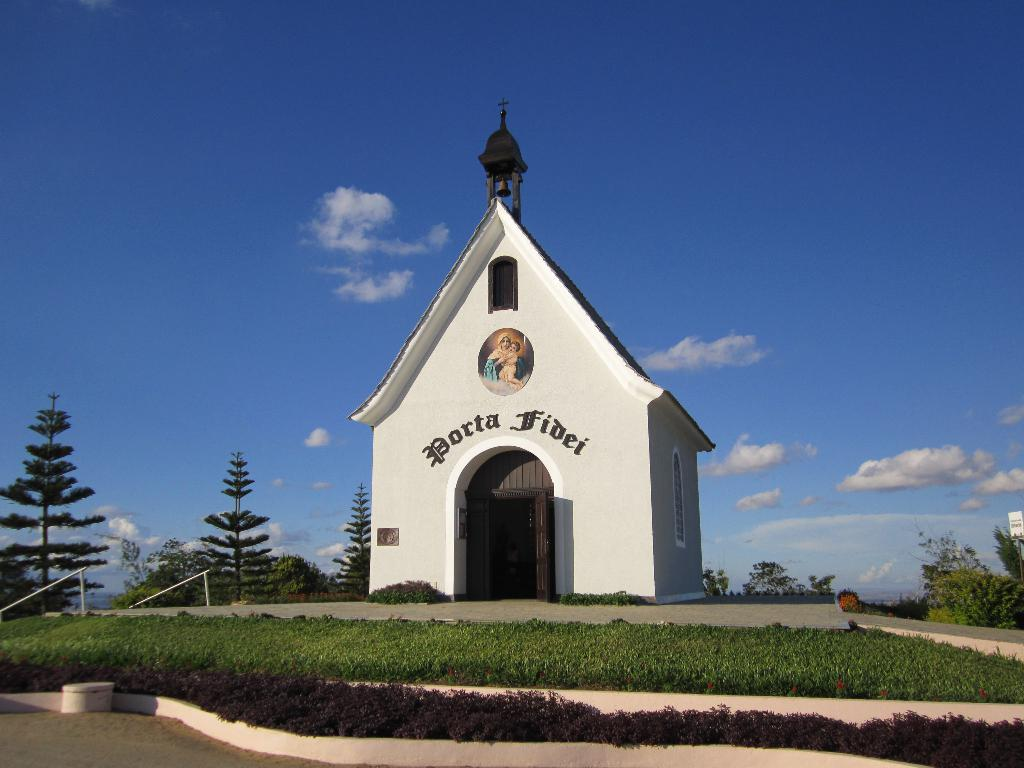Tree: (0, 386, 108, 620), (191, 452, 279, 606), (901, 496, 996, 611), (238, 546, 343, 602), (140, 531, 216, 607), (324, 479, 367, 597), (744, 558, 837, 593), (120, 531, 158, 592), (993, 525, 1023, 584), (703, 571, 725, 595)
